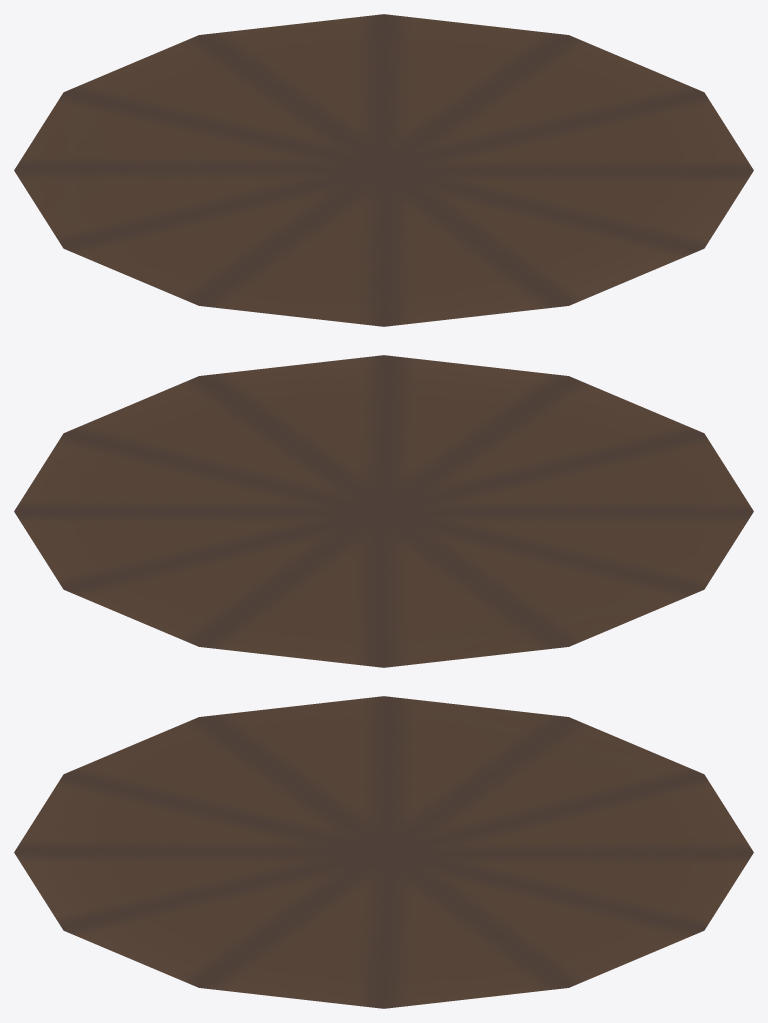
File: Barrel_Piece.fbx
The picture shows the model from 3 angles, top to bottom: view 1: azimuth 30°, elevation 25°; view 2: azimuth 150°, elevation 25°; view 3: azimuth 270°, elevation 25°; orthographic projection.
Parts seen in each view (by area): view 1: Barrel_Piece; view 2: Barrel_Piece; view 3: Barrel_Piece.
Part boxes in pixels (x1=…): Barrel_Piece: x1=14, y1=14, x2=753, y2=326; Barrel_Piece: x1=14, y1=355, x2=753, y2=667; Barrel_Piece: x1=14, y1=696, x2=753, y2=1008.
Size of the model in its own units: 73.96 by 0.0265 by 73.96.
1 material, 1 textured.
